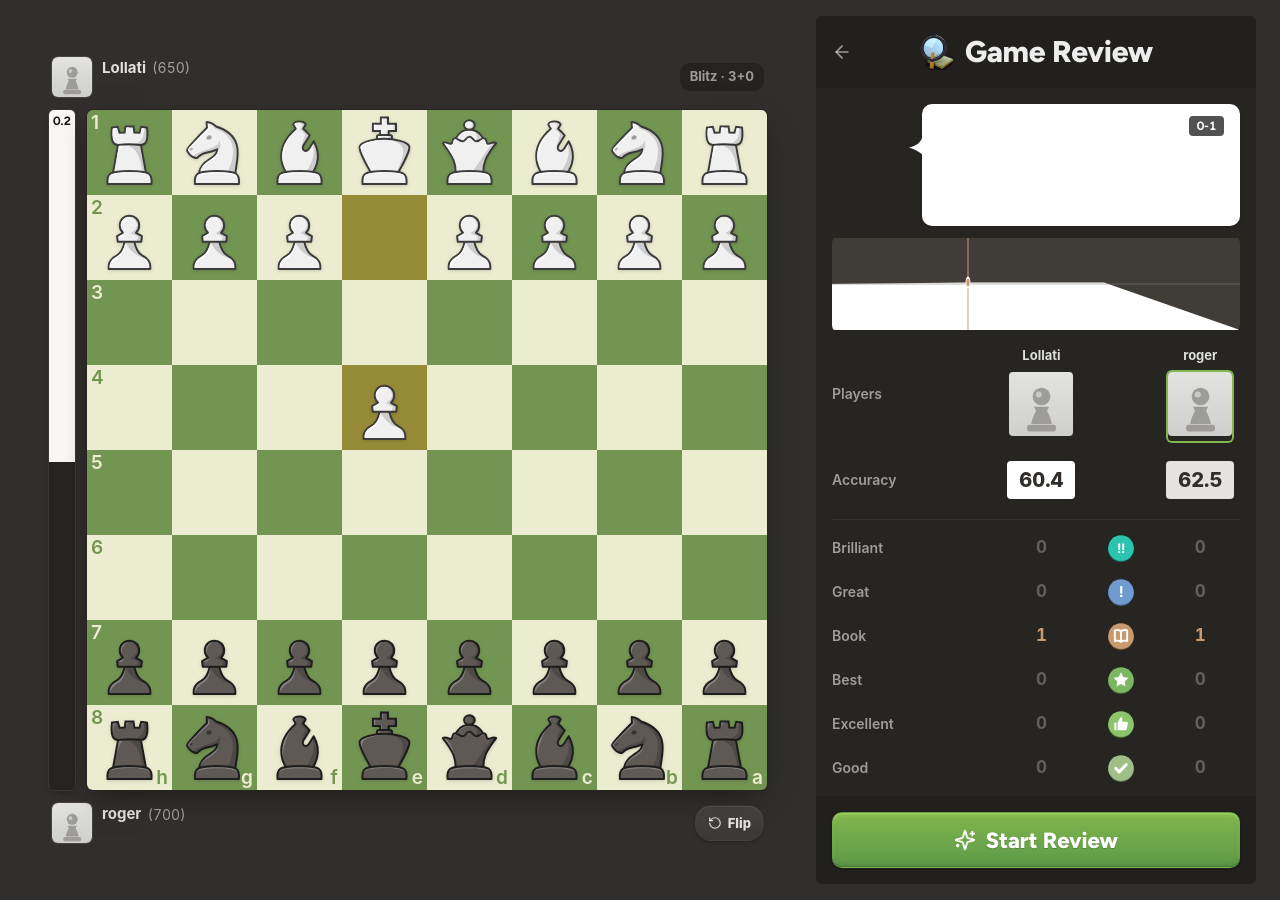
Scenario: Board Orientation and Label Flipping › GameSummary player labels and orientation flip › orients to user colour and flips player bars on Flip button click
This screenshot has width=1280, height=900.
Expected: the element with test id "player-top" shows "Lollati", [102, 58, 146, 76]
Expected: the element with test id "player-bottom" shows "roger", [102, 804, 142, 823]
// Click Flip button
Click the button "Flip".
click(729, 823)  # box [695, 805, 764, 841]
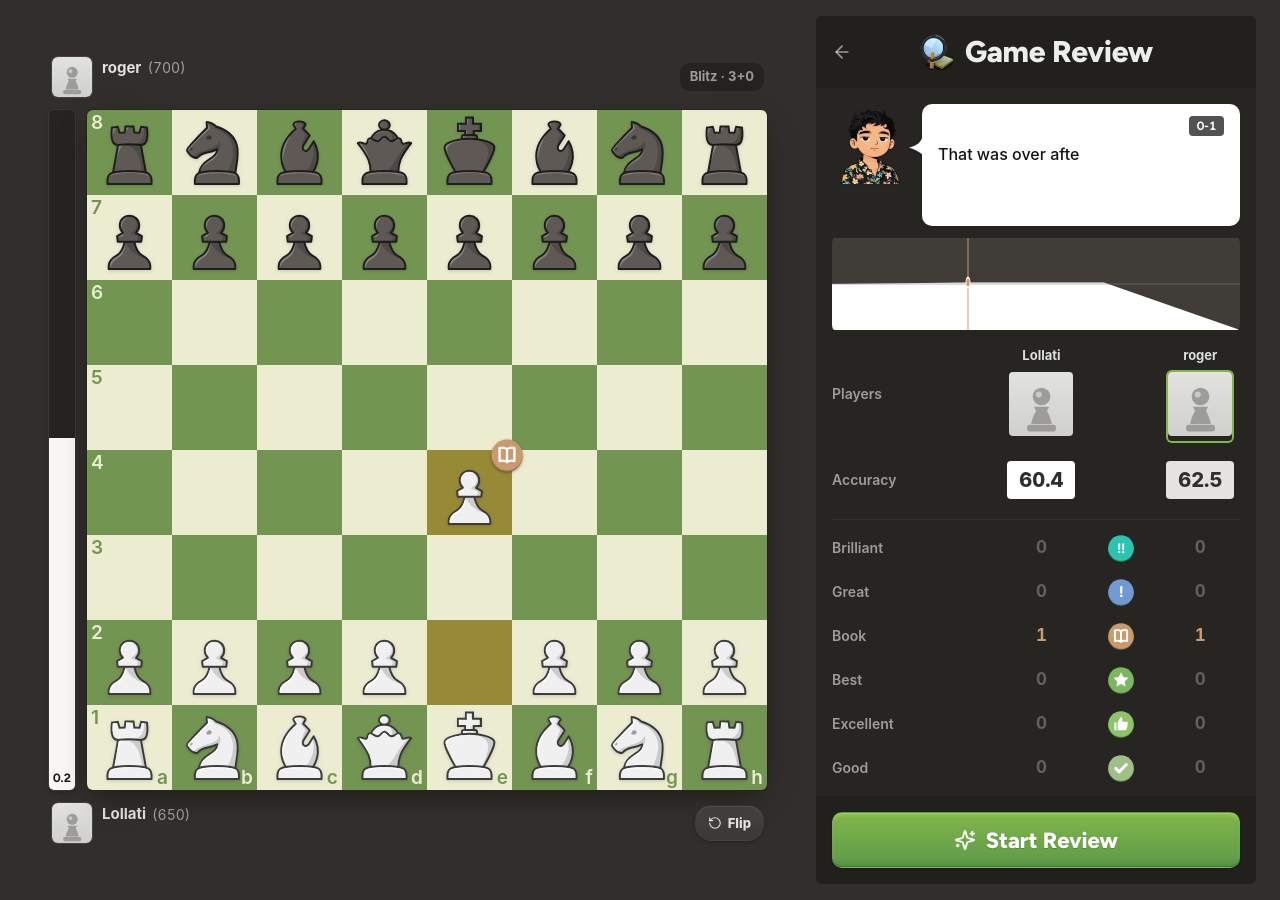
Now the element with test id "player-top" shows "roger", box [102, 58, 142, 76]
Now the element with test id "player-bottom" shows "Lollati", box [102, 804, 146, 823]
